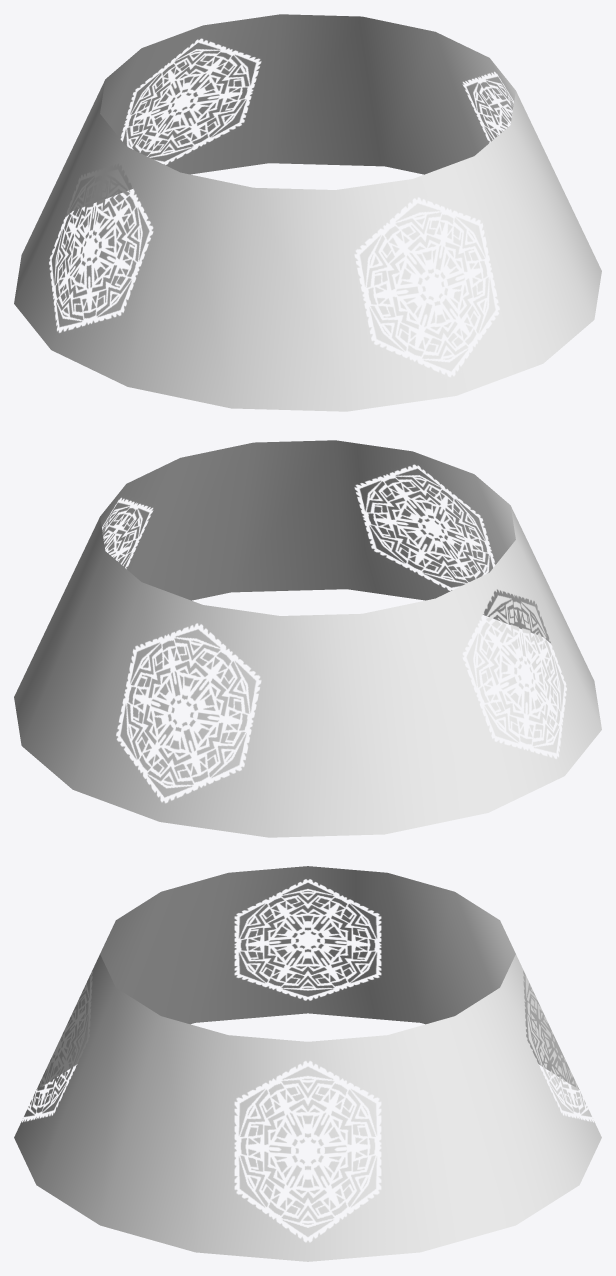
File: Prefab_Xmas_Tree_Stand_C.glb
The picture shows the model from 3 angles, top to bottom: view 1: azimuth 30°, elevation 25°; view 2: azimuth 150°, elevation 25°; view 3: azimuth 270°, elevation 25°; orthographic projection.
Parts seen in each view (by area): view 1: TreeStand_C; view 2: TreeStand_C; view 3: TreeStand_C.
Part boxes in pixels (bbox=[...]): TreeStand_C: bbox=[14, 14, 601, 411]; TreeStand_C: bbox=[14, 440, 601, 837]; TreeStand_C: bbox=[14, 866, 601, 1261].
Size of the model in its own units: 0.5345 by 0.1843 by 0.5345.
1 material, 1 textured.
